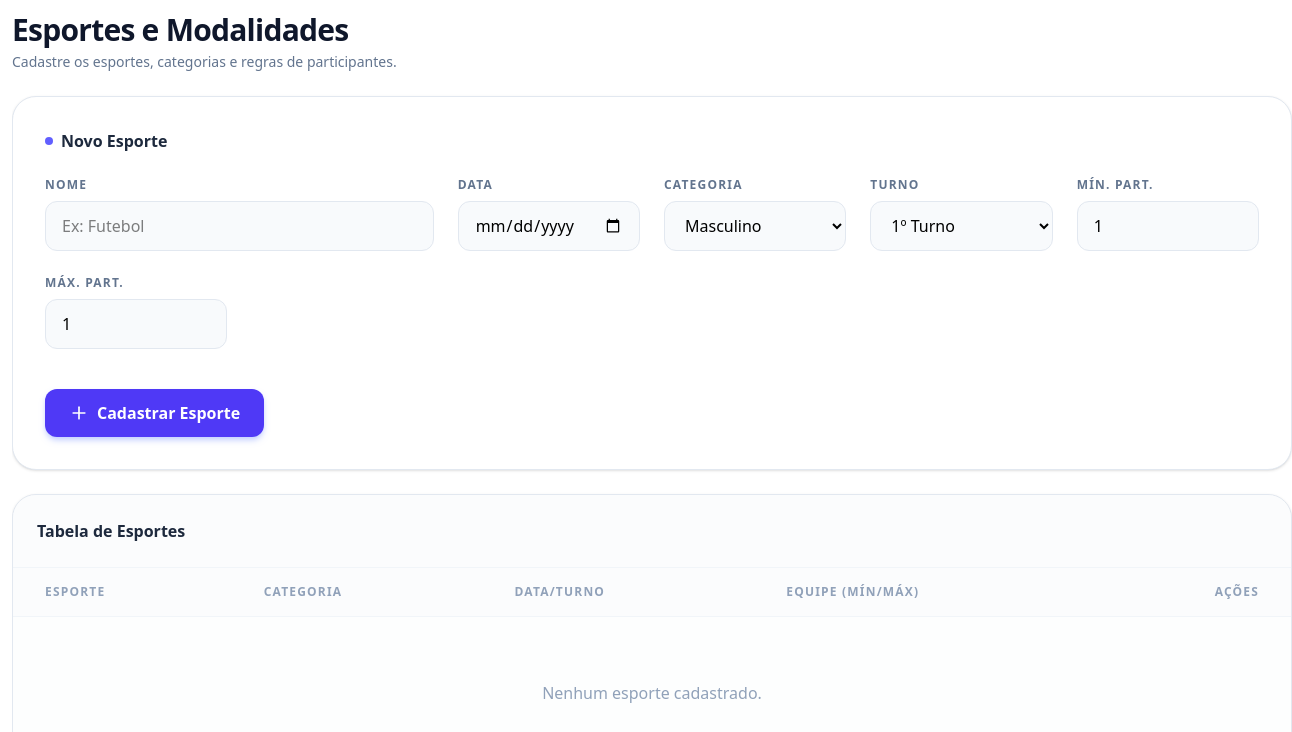
Scenario: Esportes Component › allows user to input details and submit form successfully
The width and height of the screenshot is (1292, 732).
Type "Vôlei" into the field with placeholder "Ex: Futebol" at (239, 226), box 45,201 -> 434,251
Type "2026-06-02" into the date field at (549, 226), box 458,201 -> 640,251
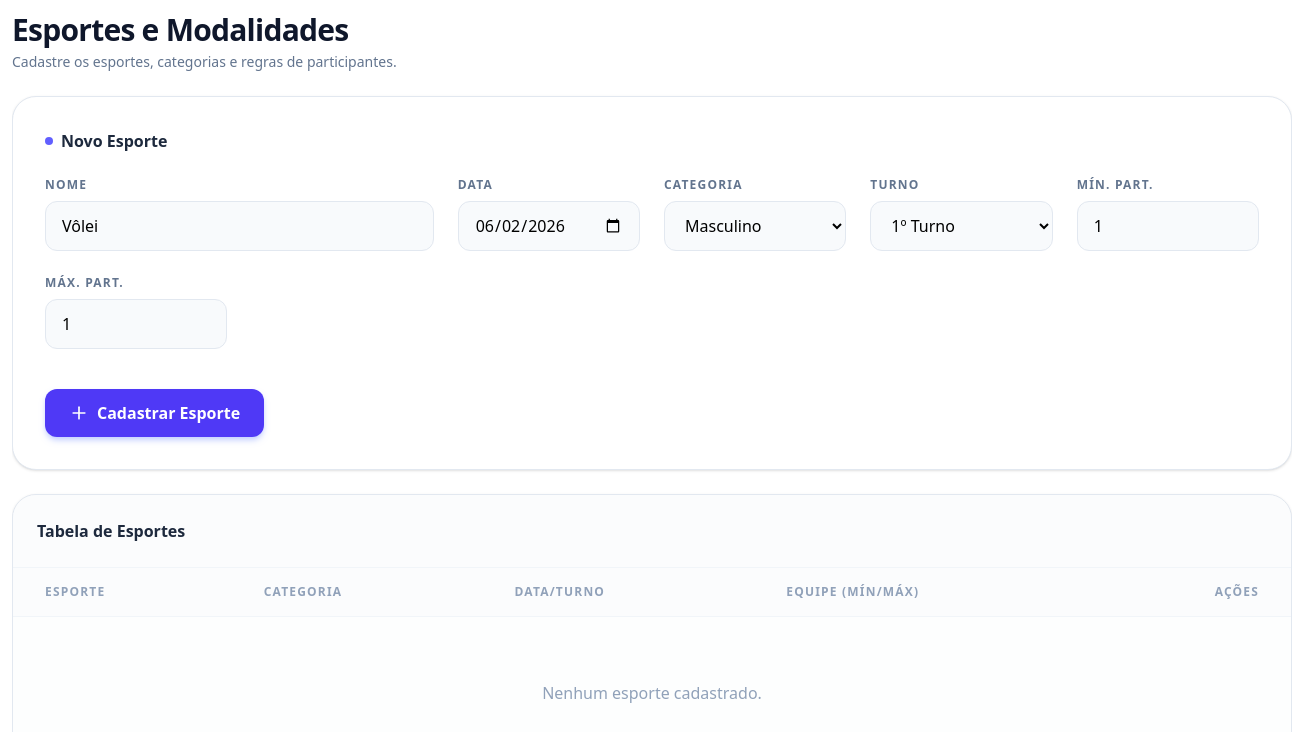
Select "Feminino" in the 1st dropdown at (755, 226), box 664,201 -> 846,251
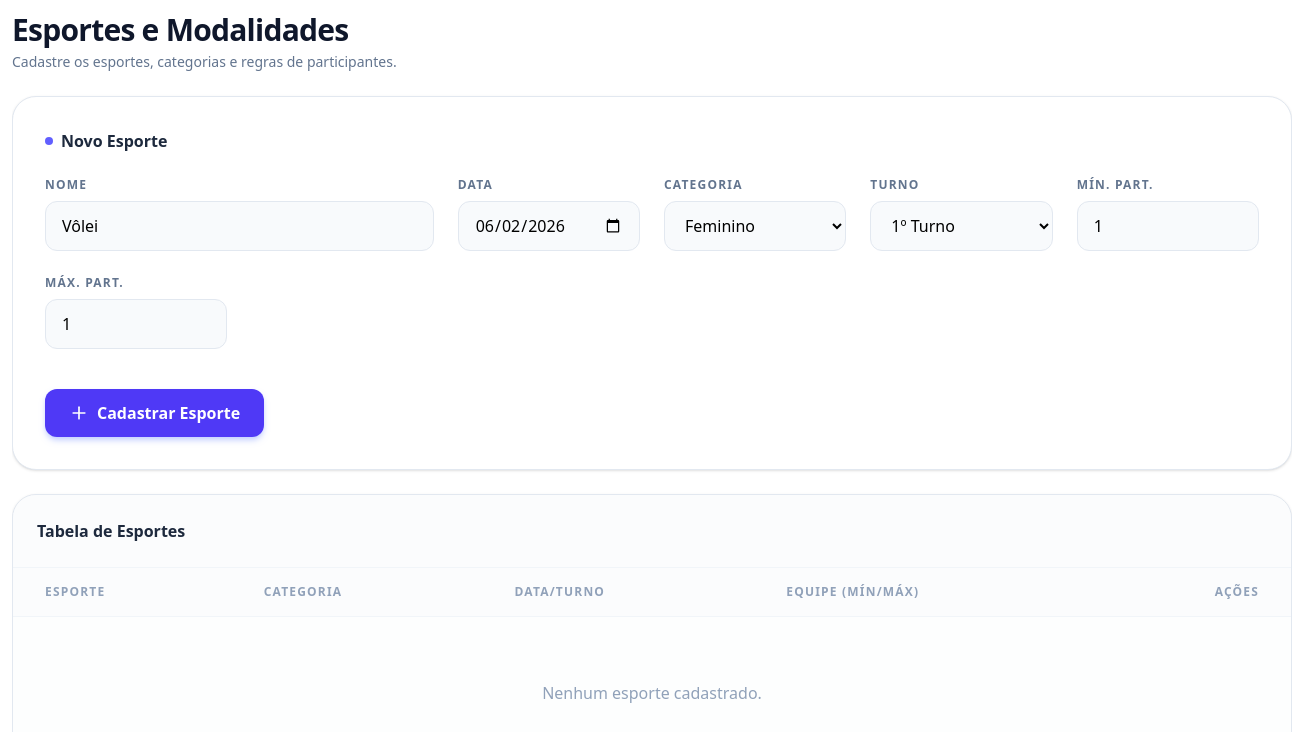
Select "2º Turno" in the 2nd dropdown at (961, 226), box 870,201 -> 1053,251
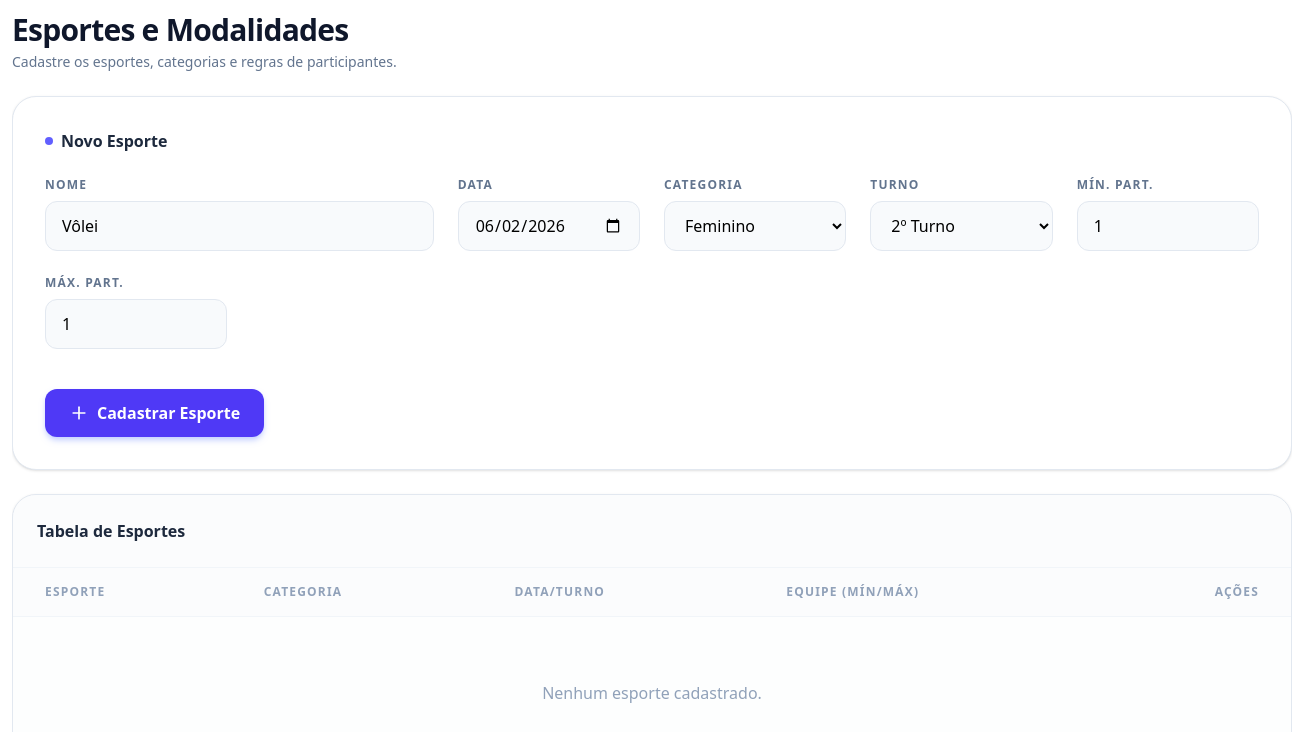
Replace the text in the number field below "Mín. Part." with "6" at (1168, 226), box 1077,201 -> 1259,251
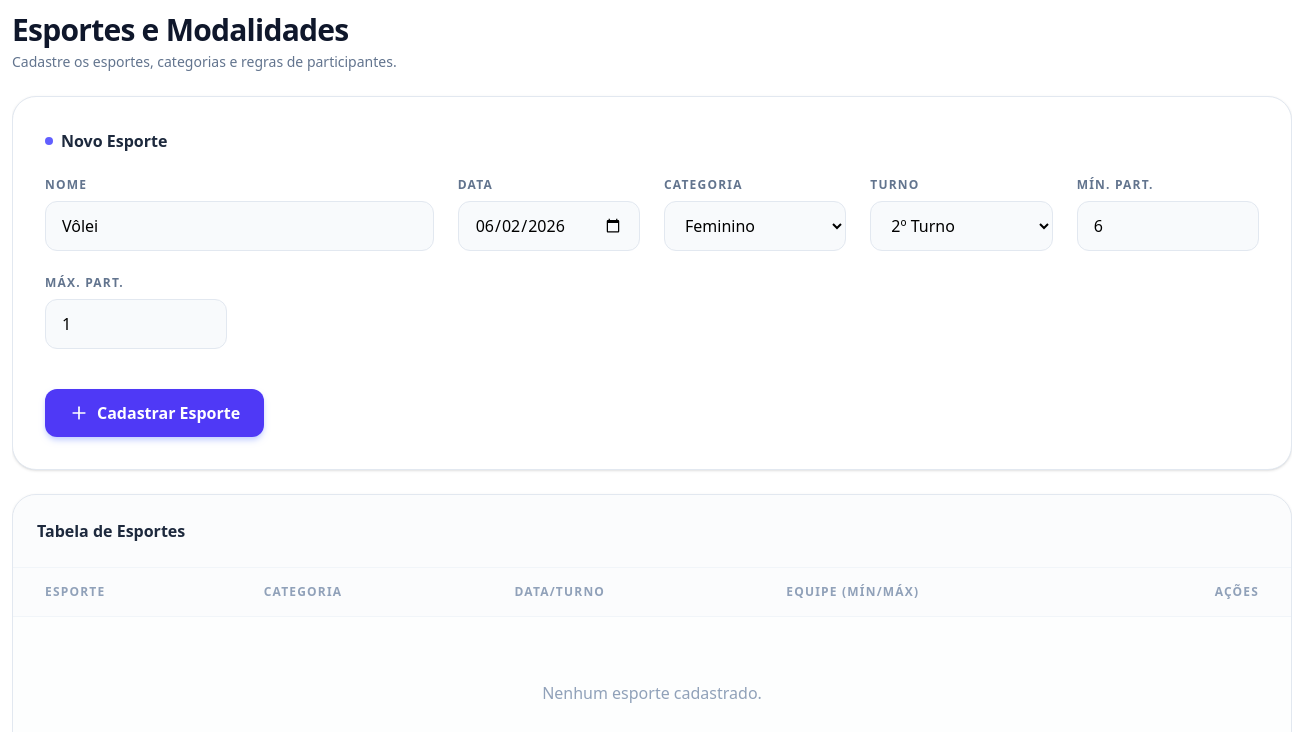
Replace the text in the number field below "Máx. Part." with "6" at (136, 324), box 45,299 -> 227,349
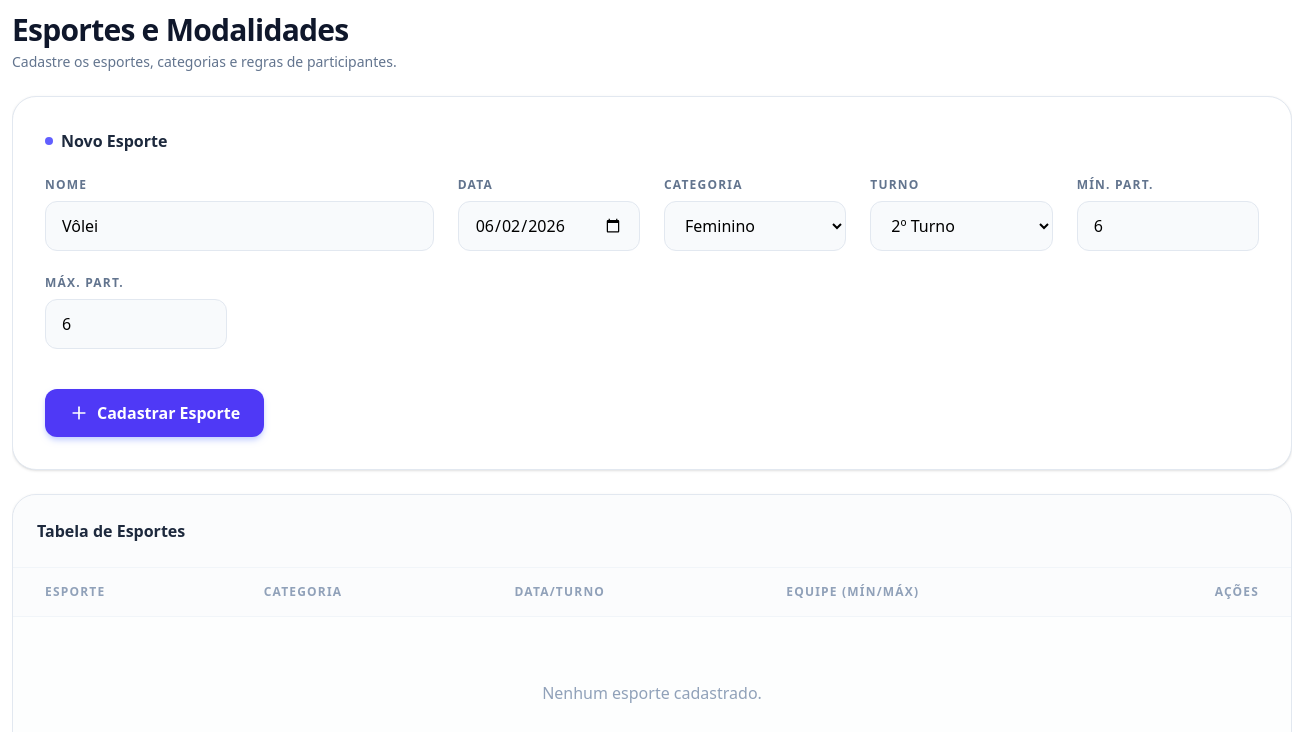
Click the button "Cadastrar Esporte" at (155, 413), box 45,389 -> 264,437
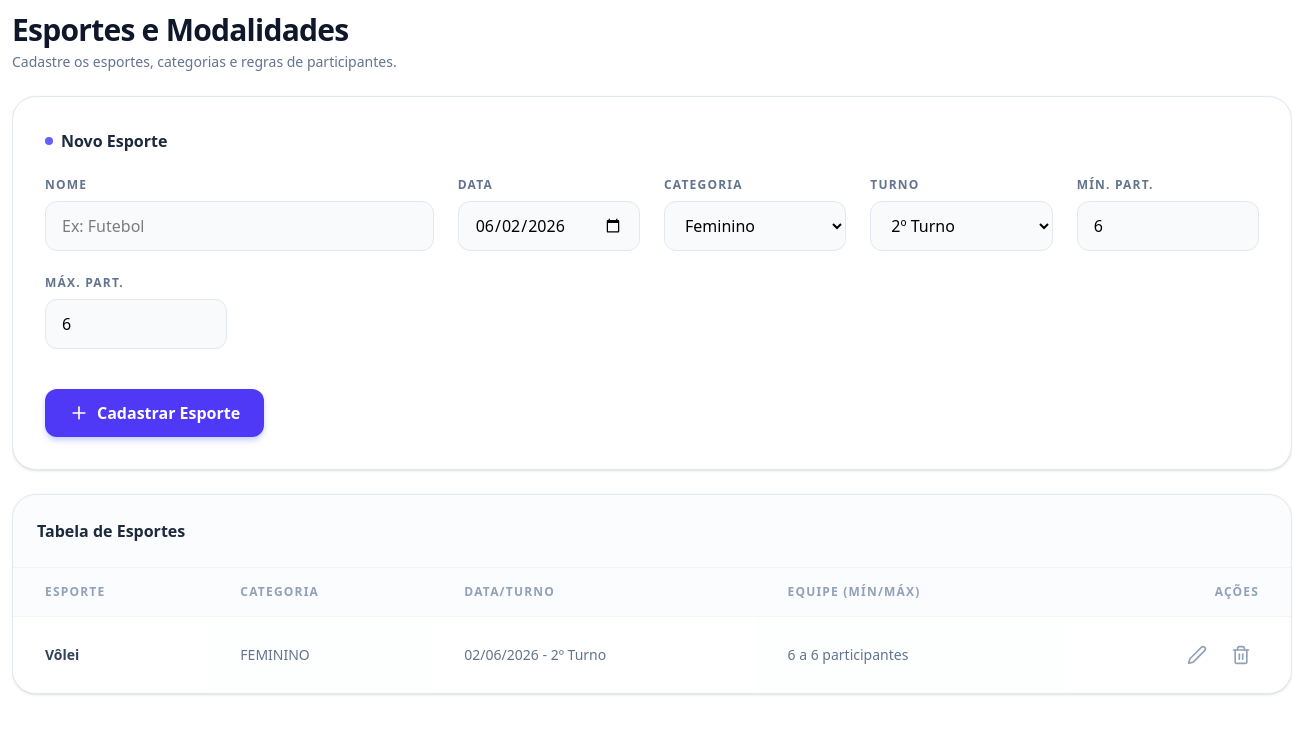
expect the text "Vôlei" is shown: met, box 13,616 -> 208,693
expect the text "FEMININO" is shown: met, box 208,616 -> 432,693
expect the text "6 a 6 participantes" is shown: met, box 756,616 -> 1065,693
